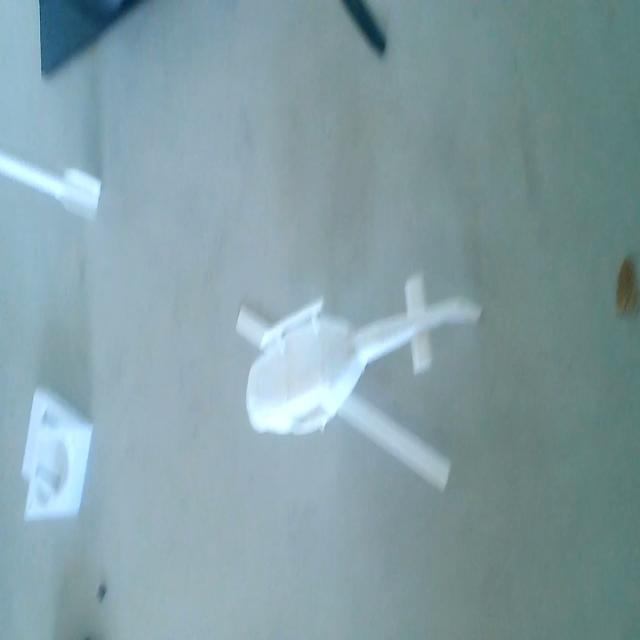Helicopter: (230, 270, 484, 501)
Rocket: (0, 137, 108, 226)
